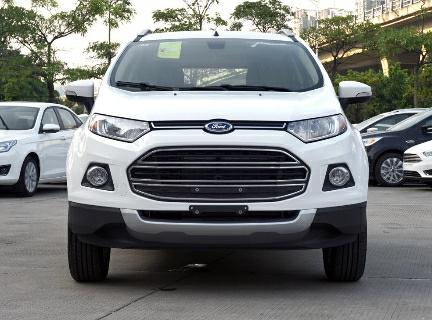福特-锐界: (58, 24, 378, 293)
